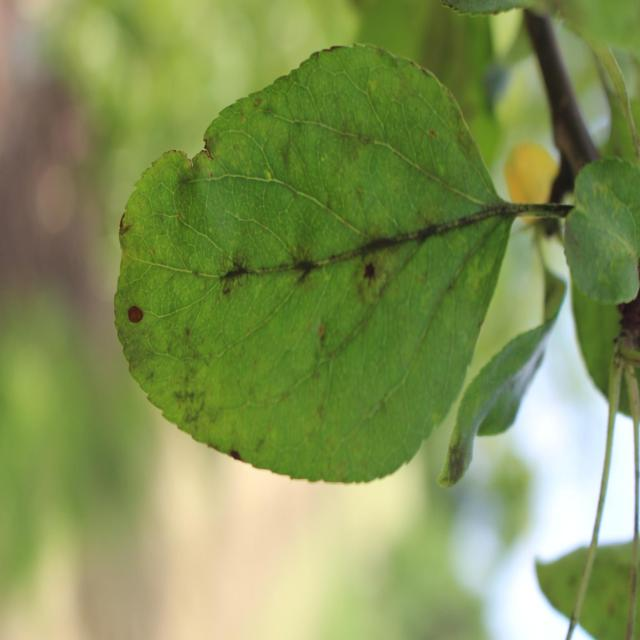Black Rot: (120, 282, 158, 352)
scab: (114, 18, 491, 490)
